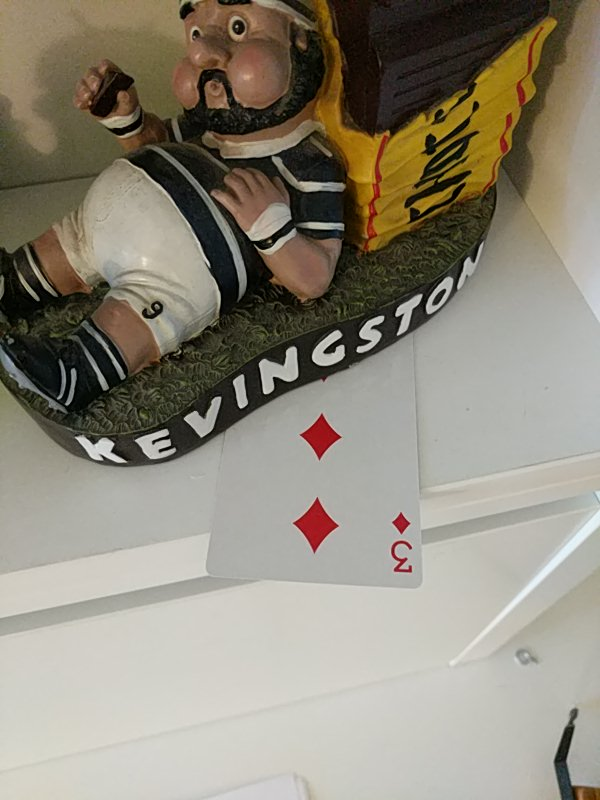Diamonds: (206, 367, 426, 591)
